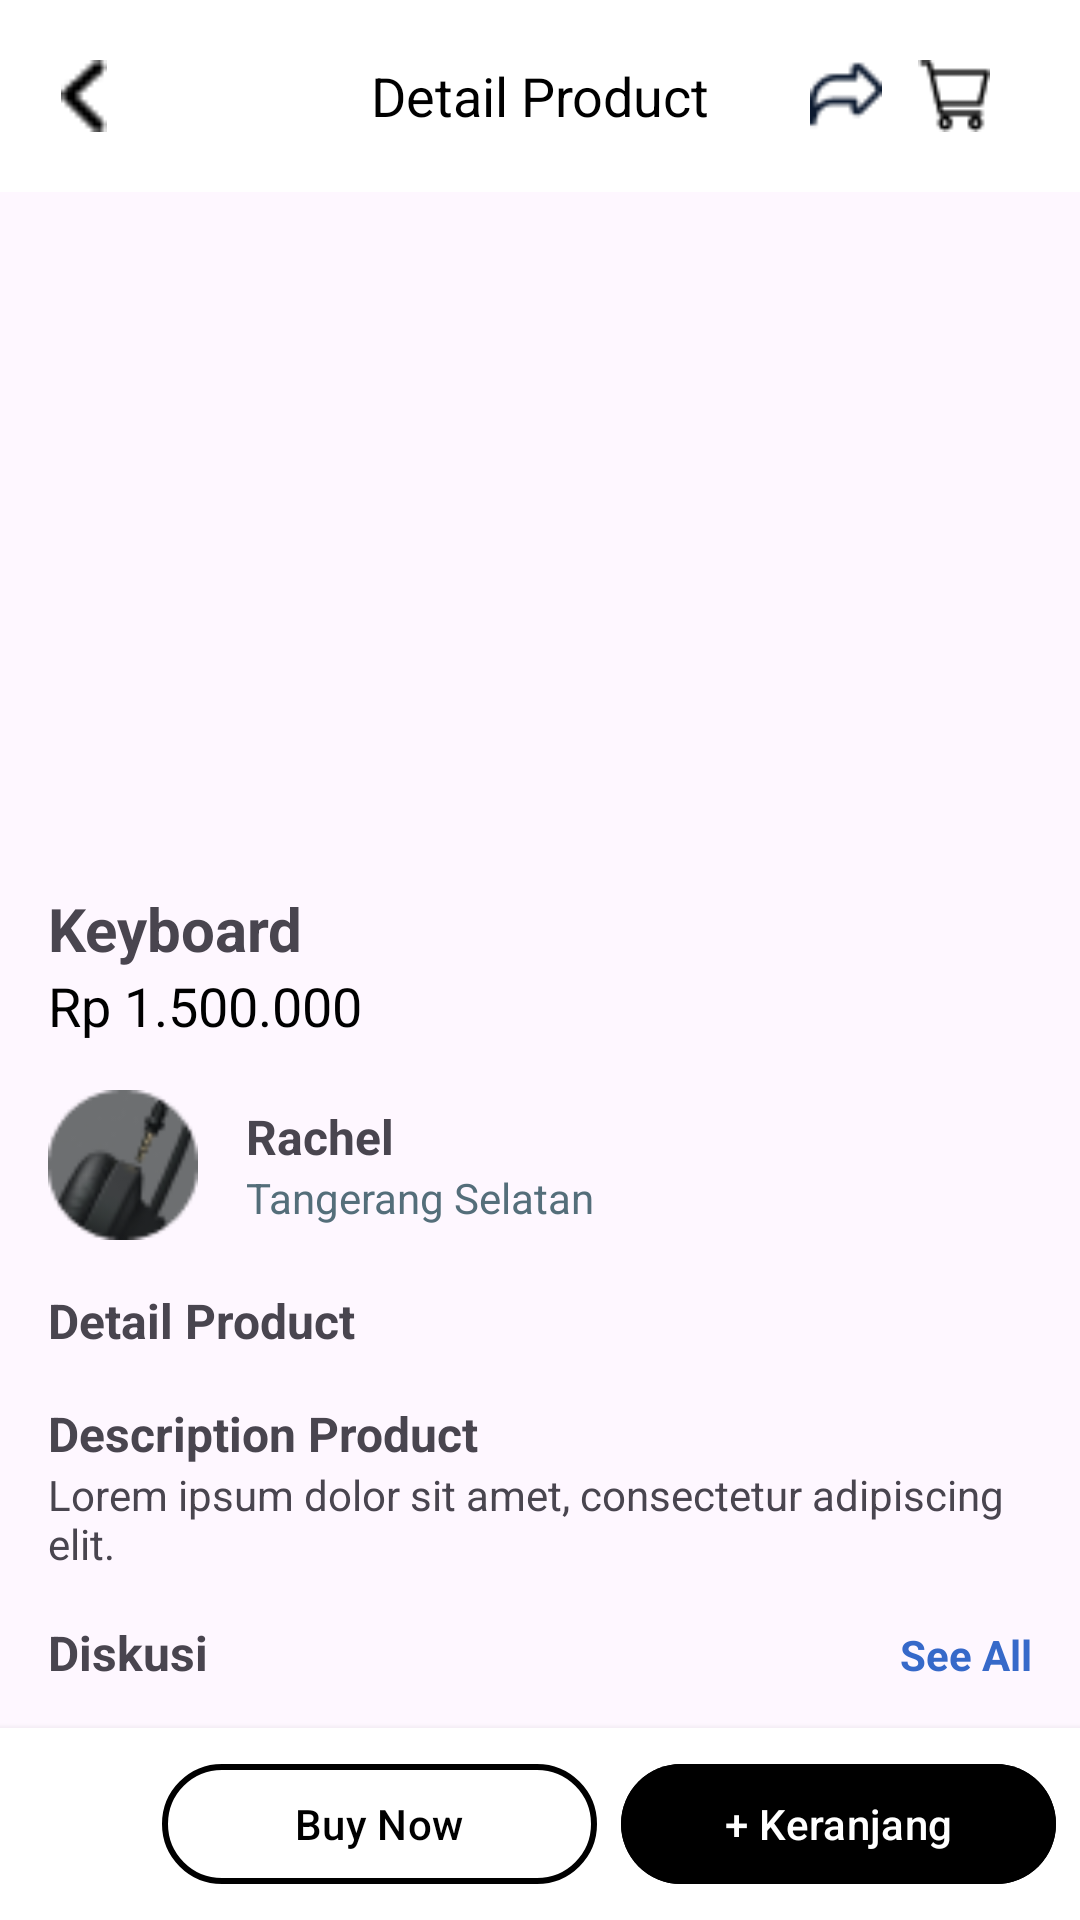

Point at icon controls on the screen. Image size 1080x1920, points as (x=x, y=y).
Back: (x=84, y=96)
Cart Icon: (x=954, y=96)
foto: (x=123, y=1165)
Share: (x=846, y=94)
